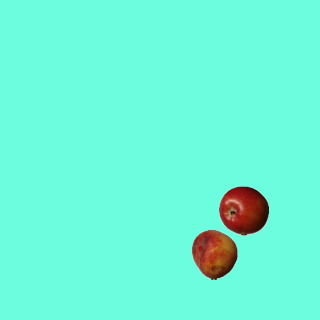Apple Braeburn: (218, 185, 268, 235)
Peach: (189, 229, 239, 279)
